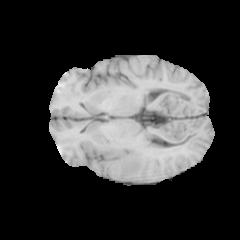glioma: (90, 147, 165, 182)
